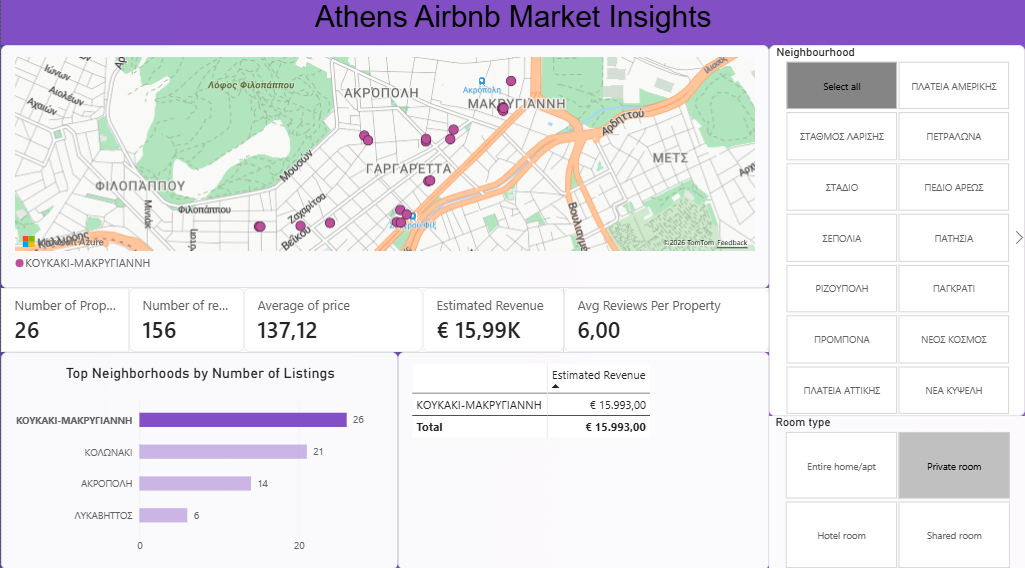

Layout of this report page (visuals, bound fields, positions):
{"tool":"powerbi","page":{"name":"Page 1","canvas":[1280,720],"ordinal":0},"visuals":[{"type":"slicer","fields":{"Values":["athens_airbnb_clean.room_type"]},"box":[960,528,320,192],"z":0},{"type":"textbox","box":[0,8,1280,56],"z":1000},{"type":"azureMap","fields":{"Series":["athens_airbnb_clean.neighbourhood"],"X":["athens_airbnb_clean.longitude"],"Y":["athens_airbnb_clean.latitude"]},"box":[0,64,960,304],"z":5000},{"type":"slicer","fields":{"Values":["athens_airbnb_clean.neighbourhood"]},"box":[960,64,320,464],"z":6000},{"type":"clusteredBarChart","title":"Top Neighborhoods by Number of Listings","fields":{"Category":["athens_airbnb_clean.neighbourhood"],"Y":["CountNonNull(athens_airbnb_clean.id)"]},"box":[0,448,496,272],"z":7000},{"type":"cardVisual","fields":{"Data":["athens_airbnb_clean.Estimated Revenue"]},"box":[528,368,176,80],"z":8000},{"type":"tableEx","fields":{"Values":["athens_airbnb_clean.neighbourhood","athens_airbnb_clean.Estimated Revenue"]},"box":[496,448,464,272],"z":9000},{"type":"cardVisual","fields":{"Data":["athens_airbnb_clean.Avg Reviews Per Property"]},"box":[704,368,256,80],"z":10000},{"type":"cardVisual","fields":{"Data":["Sum(athens_airbnb_clean.number_of_reviews)"]},"box":[160,368,144,80],"z":10001},{"type":"cardVisual","fields":{"Data":["Avg(athens_airbnb_clean.price)"]},"box":[304,368,224,80],"z":10002},{"type":"cardVisual","fields":{"Data":["CountNonNull(athens_airbnb_clean.id)"]},"box":[0,368,160,80],"z":10003}]}

Visuals, with their boxes in screenshot pixels (x1, y1, x2, y2), scaled from the page's 1280x720 canvas onto the 1025x568 screenshot:
slicer - athens_airbnb_clean.room_type: region(769, 417, 1024, 567)
textbox: region(0, 6, 1024, 50)
azureMap - athens_airbnb_clean.neighbourhood x athens_airbnb_clean.longitude: region(0, 50, 769, 290)
slicer - athens_airbnb_clean.neighbourhood: region(769, 50, 1024, 417)
"Top Neighborhoods by Number of Listings" clusteredBarChart: region(0, 353, 397, 567)
cardVisual - athens_airbnb_clean.Estimated Revenue: region(423, 290, 564, 353)
tableEx - athens_airbnb_clean.neighbourhood x athens_airbnb_clean.Estimated Revenue: region(397, 353, 769, 567)
cardVisual - athens_airbnb_clean.Avg Reviews Per Property: region(564, 290, 769, 353)
cardVisual - Sum(athens_airbnb_clean.number_of_reviews): region(128, 290, 243, 353)
cardVisual - Avg(athens_airbnb_clean.price): region(243, 290, 423, 353)
cardVisual - CountNonNull(athens_airbnb_clean.id): region(0, 290, 128, 353)
